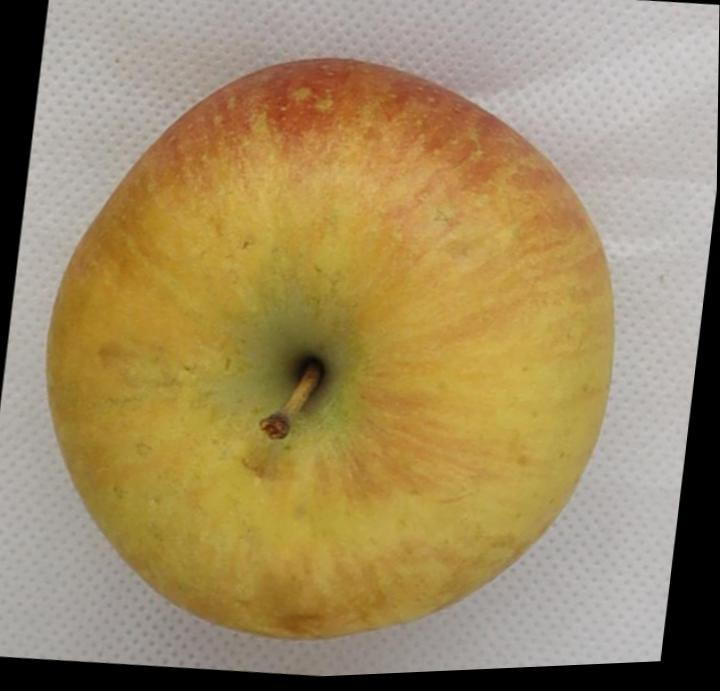apple: (47, 57, 612, 637)
bruise_discoloration: (67, 157, 611, 635)
